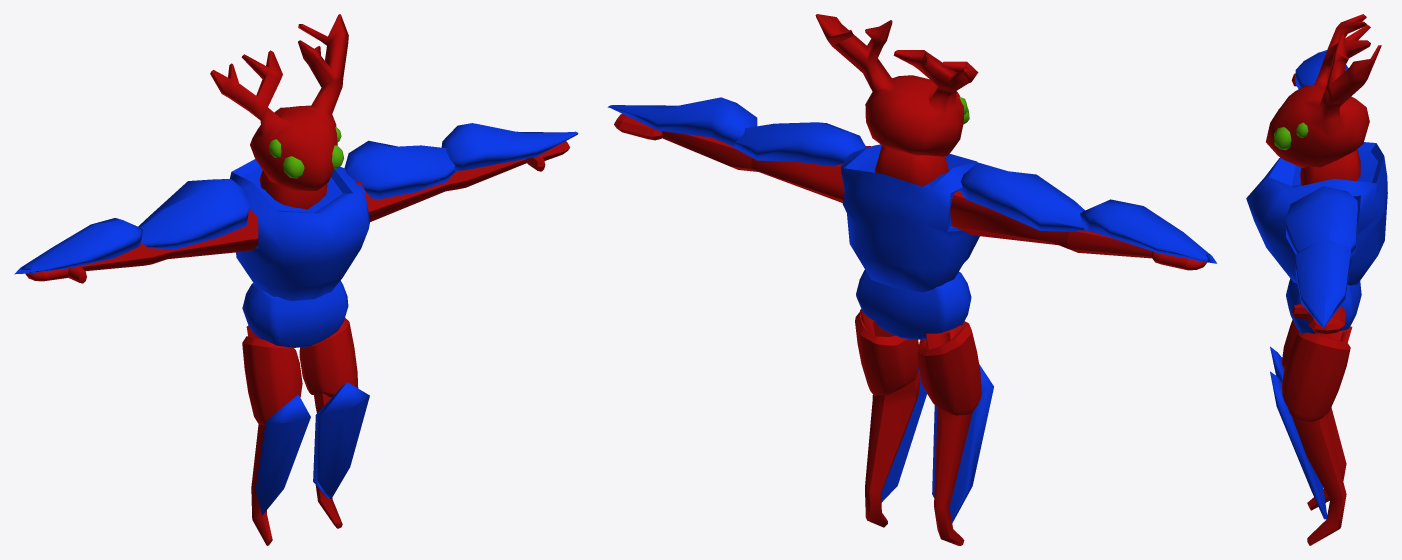
Rendered from sm_Tank_Wrongbody.fbx.
The picture shows the model from 3 angles, left to right: view 1: azimuth 30°, elevation 25°; view 2: azimuth 150°, elevation 25°; view 3: azimuth 270°, elevation 25°; orthographic projection. The views are drawn at different scales.
Parts seen in each view (by area): view 1: armor, body, eyes; view 2: armor, body; view 3: body, armor, eyes.
Part boxes in pixels (<box>): armor: <box>14,123,578,515</box>; body: <box>25,14,569,545</box>; eyes: <box>269,127,343,178</box>; armor: <box>607,97,1217,522</box>; body: <box>614,14,1206,545</box>; body: <box>1266,14,1381,545</box>; armor: <box>1246,50,1387,519</box>; eyes: <box>1274,109,1308,150</box>.
Bounding box in the file's own units: 31.92 × 26.33 × 6.73.
